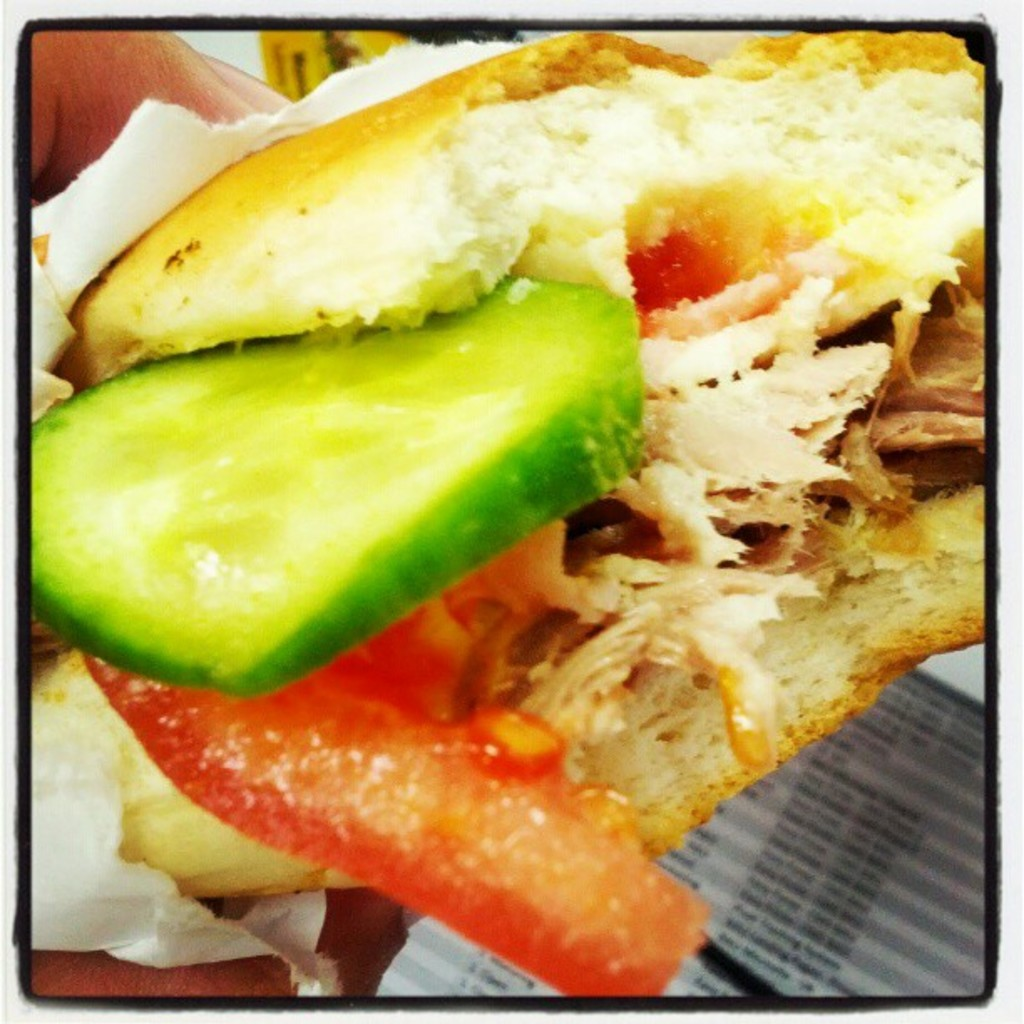sandwich: (28, 28, 986, 997)
